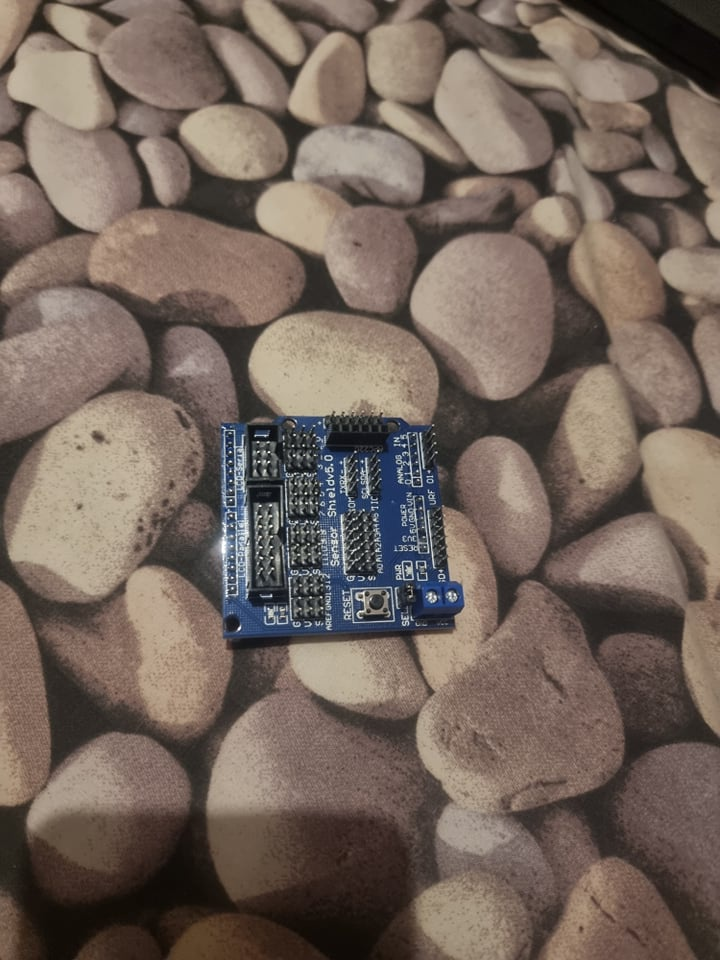5V EXPANSION: (220, 415, 467, 640)
